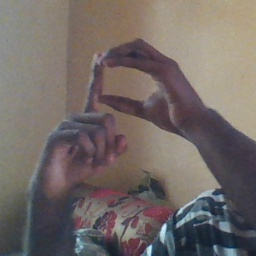P: (57, 37, 187, 180)
